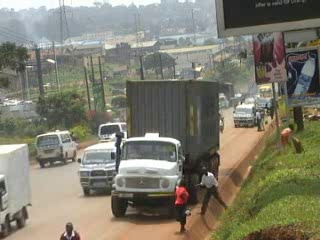Motorcycle: (218, 111, 228, 138)
